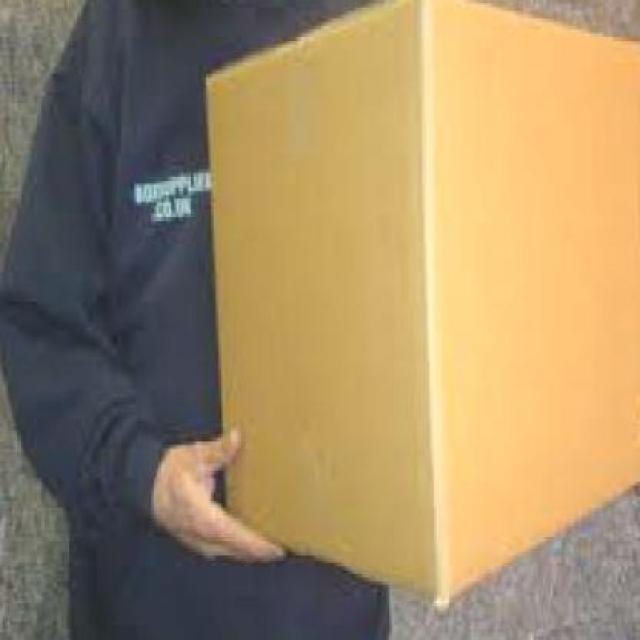box: (200, 0, 638, 611)
